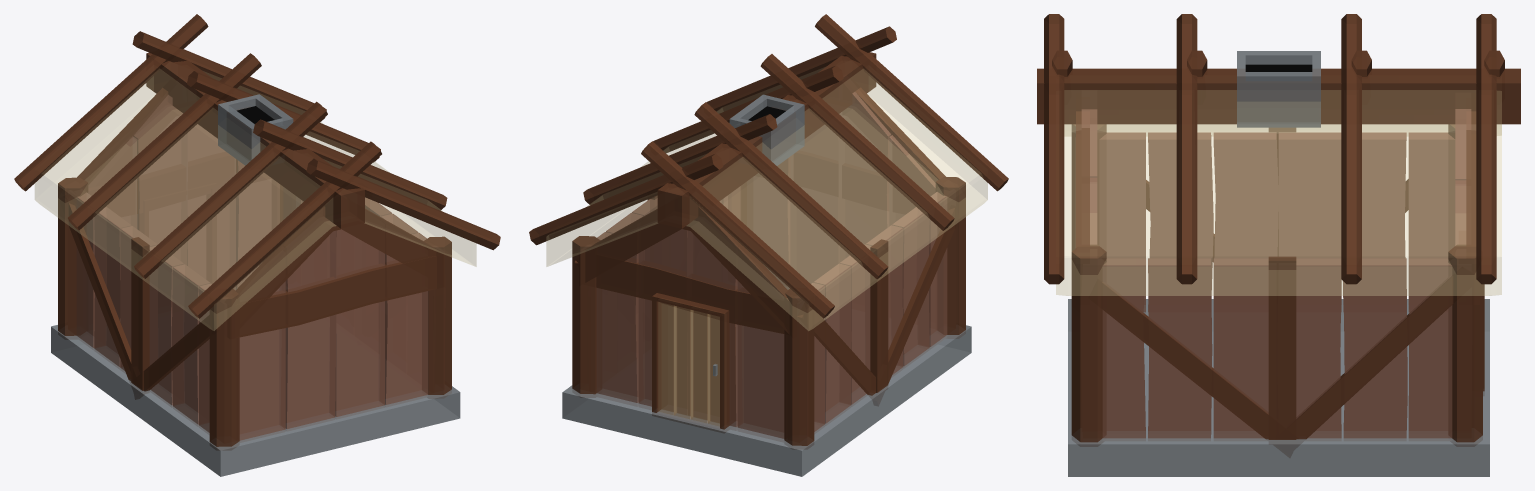
The model's file is house.fbx.
3 views of the same model, side by side, from view 1: azimuth 30°, elevation 25°; view 2: azimuth 150°, elevation 25°; view 3: azimuth 270°, elevation 25° (orthographic). The views are drawn at different scales.
Parts seen in each view (by area): view 1: Cylinder.001; view 2: Cylinder.001; view 3: Cylinder.001.
Part boxes in pixels (bbox=[...]): Cylinder.001: bbox=[14, 14, 500, 476]; Cylinder.001: bbox=[529, 14, 1008, 476]; Cylinder.001: bbox=[1037, 14, 1520, 476].
Size of the model in its own units: 765 by 716 by 844.
